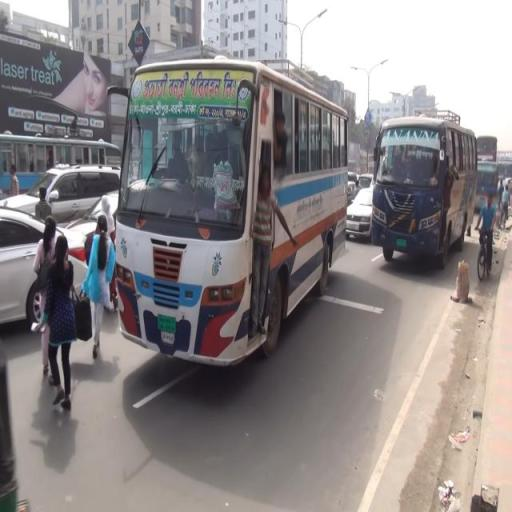onibus: (116, 55, 348, 369), (371, 112, 478, 269)
